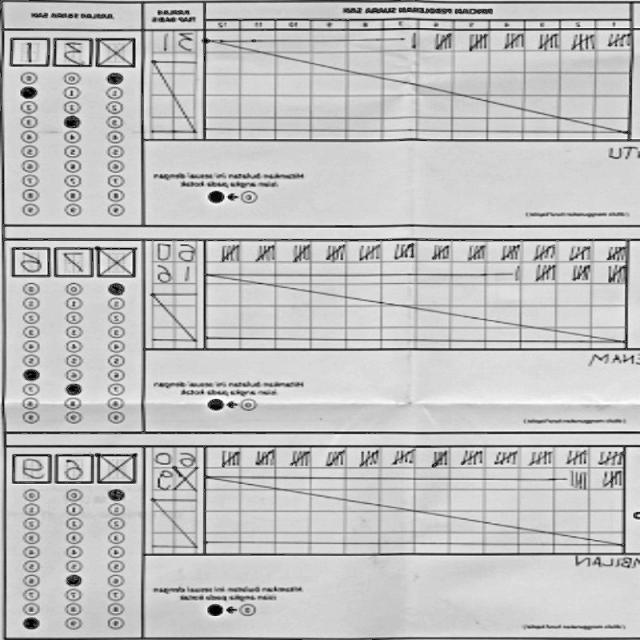Suara: (11, 239, 142, 280), (11, 448, 141, 488), (8, 30, 138, 68)
